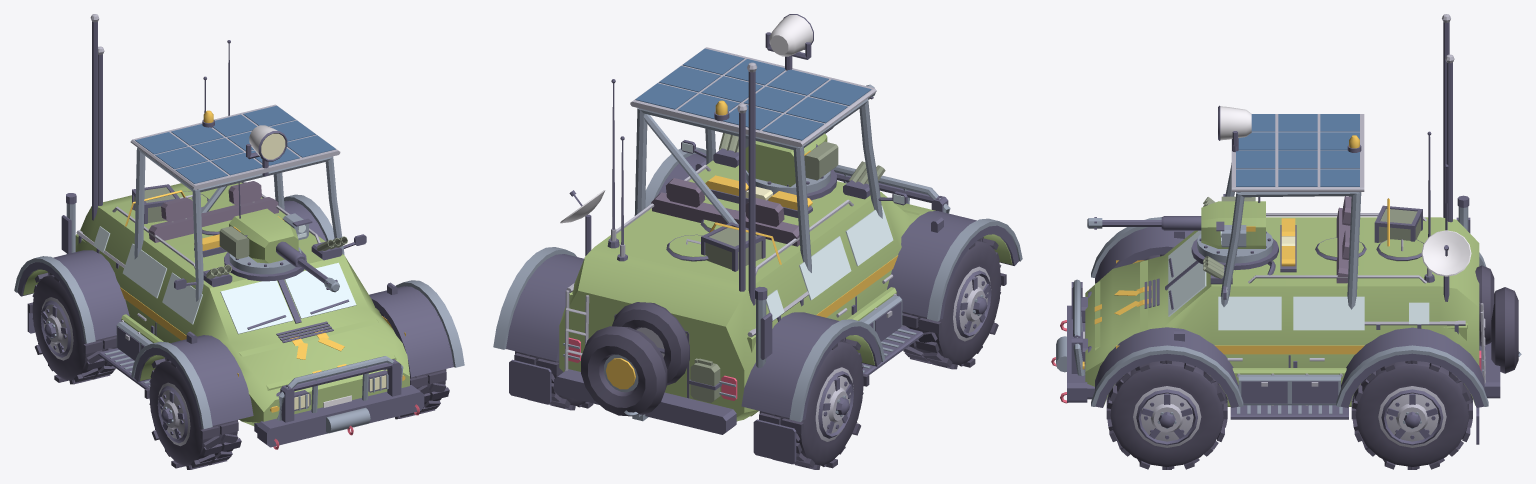
Rendered from rover.glb.
3 renders of one model, left to right at view 1: azimuth 30°, elevation 25°; view 2: azimuth 150°, elevation 25°; view 3: azimuth 270°, elevation 25°, orthographic. The views are drawn at different scales.
Visible parts, largest first — view 1: mil_hull, civ_cells, mil_arch-11, mil_arch11, mil_arch-1-1, civ_cage, mil_pushBar, mil_wind-0.56, mil_tyre0, mil_tyre2, mil_wind0.56, civ_canopy (+33 smaller); view 2: mil_hull, civ_cells, civ_cage, mil_arch-1-1, mil_arch-11, mil_spare, mil_arch1-1, mil_tyre0, mil_tyre2, civ_canopy, mil_rearBumper, civ_spare (+36 smaller); view 3: mil_hull, civ_cells, mil_tyre1, mil_tyre3, mil_arch1-1, mil_arch11, civ_cage, mil_side11, civ_canopy, mil_side10, mil_cradle, civ_rim3 (+35 smaller).
Boxes of the visible parts, box(x1,y1,x2,y2) form: mil_hull: box(75, 182, 409, 425); civ_cells: box(135, 105, 335, 183); mil_arch-11: box(134, 335, 253, 427); mil_arch11: box(369, 286, 453, 377); mil_arch-1-1: box(17, 250, 129, 341); civ_cage: box(134, 147, 344, 301); mil_pushBar: box(257, 385, 424, 447); mil_wind-0.56: box(220, 280, 293, 334); mil_tyre0: box(149, 360, 238, 466); mil_tyre2: box(32, 275, 116, 380); mil_wind0.56: box(284, 262, 356, 318); civ_canopy: box(130, 104, 340, 189); mil_hull: box(559, 160, 935, 421); civ_cells: box(635, 48, 871, 140); civ_cage: box(634, 98, 882, 272); mil_arch-1-1: box(741, 312, 881, 420); mil_arch-11: box(887, 211, 1018, 319); mil_spare: box(581, 326, 667, 416); mil_arch1-1: box(506, 254, 583, 361); mil_tyre0: box(902, 241, 1001, 365); mil_tyre2: box(759, 341, 863, 465); civ_canopy: box(630, 47, 876, 147); mil_rearBumper: box(554, 369, 736, 434); civ_spare: box(612, 302, 689, 385); mil_hull: box(1085, 217, 1479, 386); civ_cells: box(1236, 114, 1359, 186); mil_tyre1: box(1110, 361, 1223, 466); mil_tyre3: box(1355, 361, 1468, 466); mil_arch1-1: box(1340, 327, 1484, 407); mil_arch11: box(1095, 327, 1238, 407); civ_cage: box(1220, 163, 1361, 309); mil_side11: box(1293, 296, 1364, 330); civ_canopy: box(1231, 114, 1364, 191); mil_side10: box(1218, 296, 1281, 330); mil_cradle: box(1201, 201, 1265, 248); civ_rim3: box(1378, 386, 1446, 447).
Bounding box in the file's own units: 4.8 × 5.81 × 6.91.
